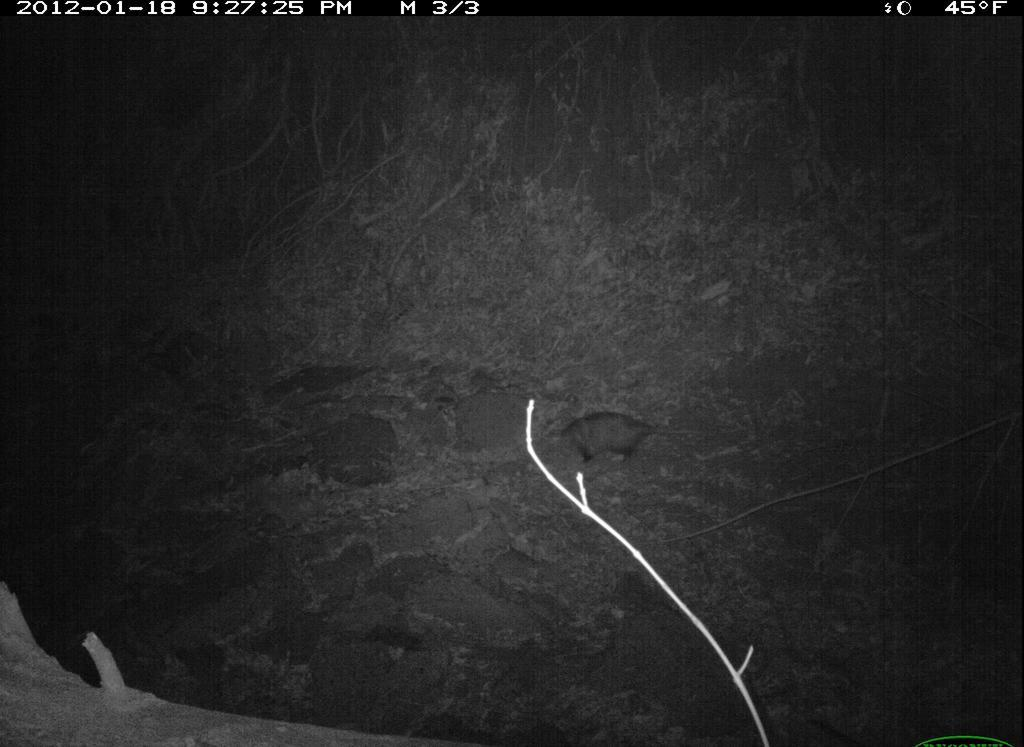opossum: (553, 404, 698, 473)
